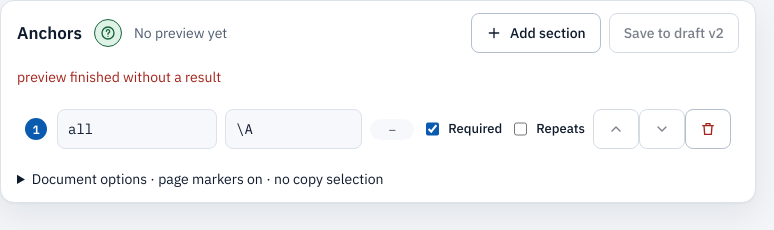
Test: Sections tab Discard › goes back to the saved anchors and forgets the edits
Expected: the button "Discard" is not shown
Type "X" into the field named "Anchor of section 1" at (294, 129), box [225,109,362,149]
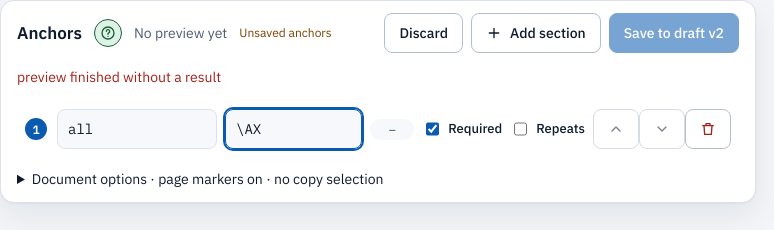
Click the button "Discard" at (424, 33), box [384,13,463,53]
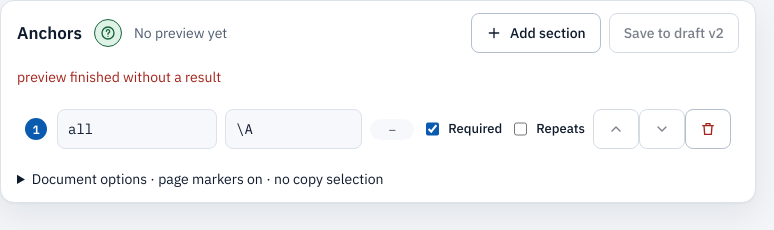
Expected: the field named "Anchor of section 1" holds "\\A", [225,109,362,149]
Expected: the text "Unsaved anchors" is gone
